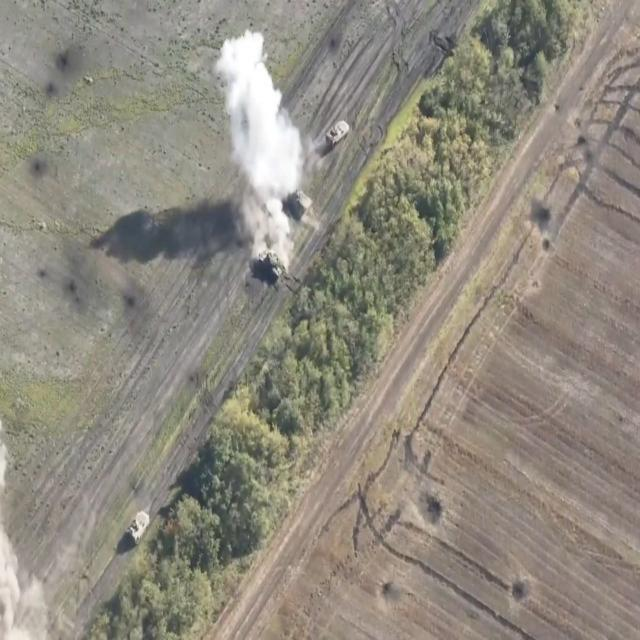apc: (126, 511, 152, 546), (324, 118, 351, 150)
destroyed: (279, 188, 313, 218)
tank: (256, 248, 286, 279)
